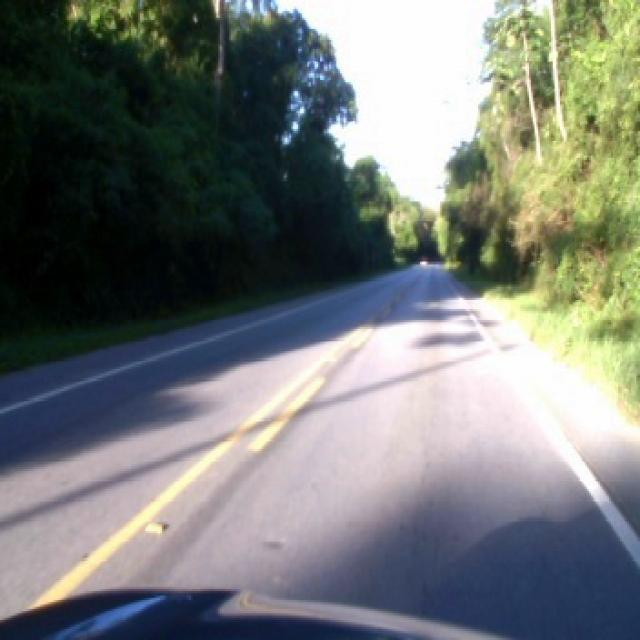Poth-hole: (142, 518, 166, 532)
